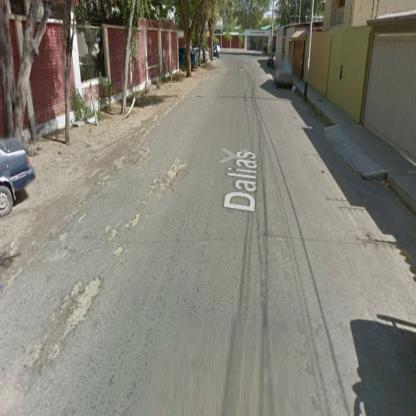Obstaculo: (25, 277, 105, 379), (146, 159, 189, 199), (118, 148, 155, 169), (127, 212, 141, 232), (59, 232, 72, 250), (74, 213, 88, 229), (109, 230, 119, 244), (115, 247, 124, 258)
